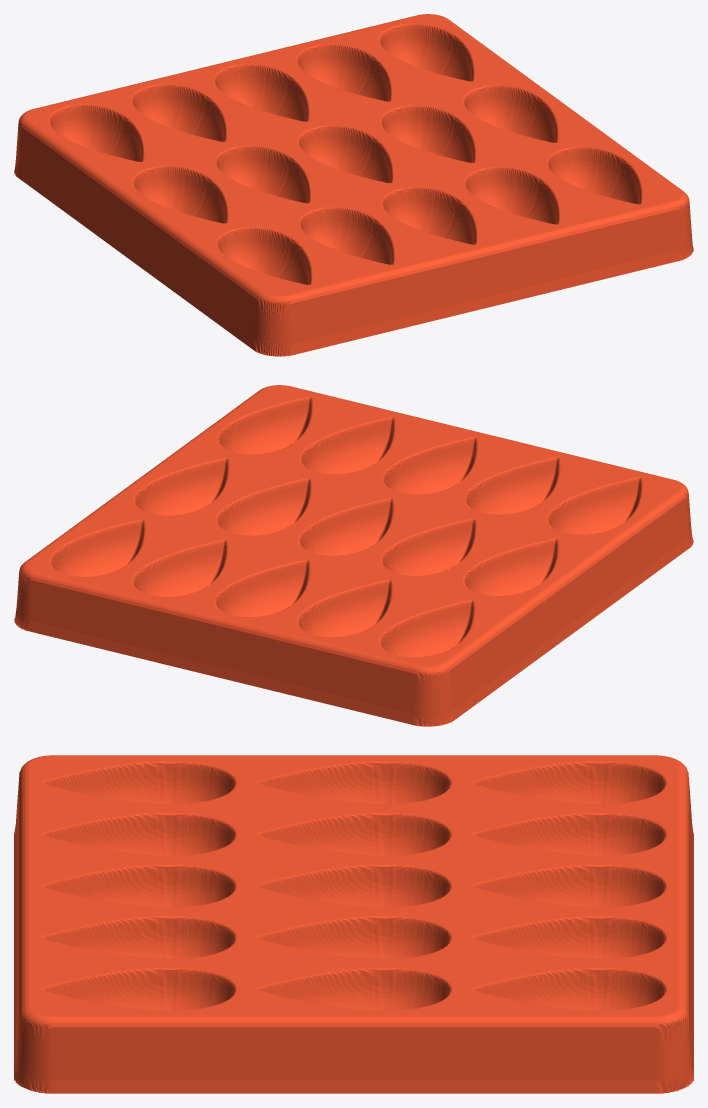
The model's file is mold.glb.
3 views of the same model, one above another, from view 1: azimuth 30°, elevation 25°; view 2: azimuth 150°, elevation 25°; view 3: azimuth 270°, elevation 25° (orthographic). The views are drawn at different scales.
Visible parts, largest first — view 1: geometry_0; view 2: geometry_0; view 3: geometry_0.
Part boxes in pixels (x1=…): geometry_0: x1=14, y1=14, x2=693, y2=356; geometry_0: x1=14, y1=385, x2=693, y2=726; geometry_0: x1=14, y1=755, x2=693, y2=1093.
Bounding box in the file's own units: 0.152 × 0.0185 × 0.1602.
